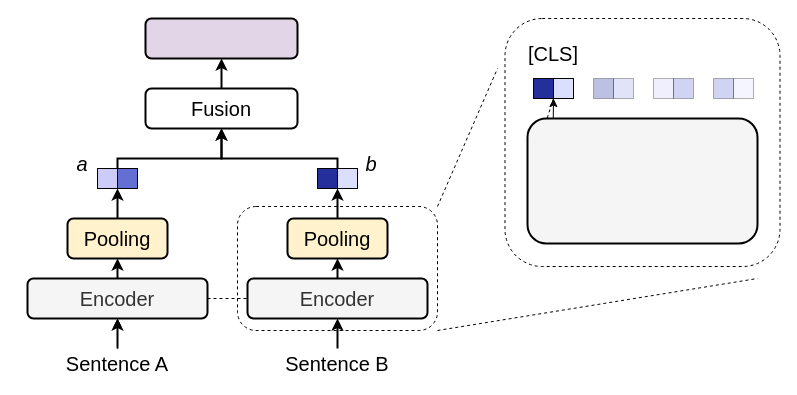
This 797x395 diagram has some shape labels left out. The shapes that lost their labels are listed below. From the top down, each one's box as (x1, y1, x2, y2) in pixels, then its label:
(144, 17, 298, 59): Prediction layer
(526, 117, 758, 244): BERT
